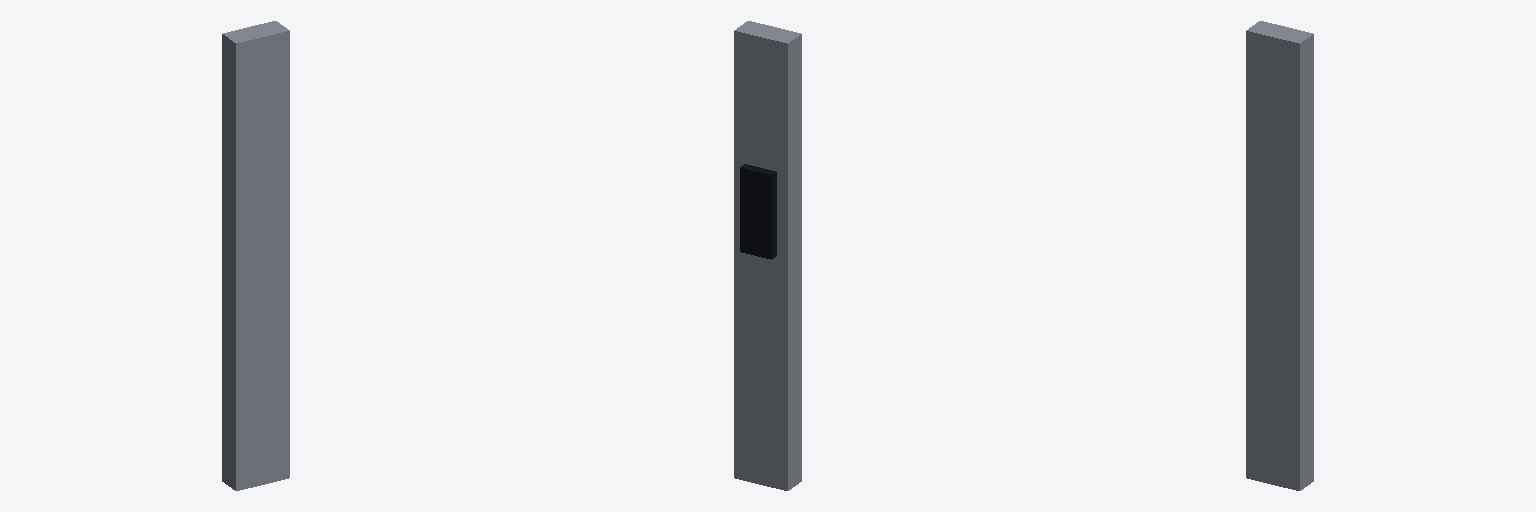
robot.urdf — artmanip_knife_017:
<?xml version='1.0' encoding='utf-8'?>
<robot name="artmanip_knife_017"><link name="link_0"><inertial><mass value="0.029" /><inertia ixx="5.1508199899828775e-05" iyy="5.215603768076266e-05" izz="9.725608650428946e-07" ixy="0" ixz="0" iyz="0" /></inertial><visual><geometry><box size="0.018309967019933638 0.008196589923094947 0.14576197653440673" /></geometry><material name="link_0_color"><color rgba=".58 .60 .64 1" /></material></visual><collision><geometry><box size="0.018309967019933638 0.008196589923094947 0.14576197653440673" /></geometry></collision></link><link name="link_1"><inertial><mass value="0.006" /><inertia ixx="3.8155080226194274e-07" iyy="4.3598752598513695e-07" izz="6.385267087085093e-08" ixy="0" ixz="0" iyz="0" /></inertial><visual><geometry><box size="0.010876092799992337 0.0030685415342890034 0.027453335997219514" /></geometry><material name="link_1_color"><color rgba=".12 .13 .15 1" /></material></visual><collision><geometry><box size="0.010876092799992337 0.0030685415342890034 0.027453335997219514" /></geometry></collision></link><joint name="slider" type="prismatic"><parent link="link_0" /><child link="link_1" /><origin xyz="0.0 0.005632565728691975 0.0166523280994427" /><axis xyz="0 0 1" /><limit lower="-0.03851662457960371" upper="0.011483375420396291" effort="100" velocity="1" /><dynamics damping="1000" friction="0.001" /></joint></robot>

--- What the picture shows (computed from the rendered views, not written in the file) ---
The picture shows the robot from 3 angles, left to right: view 1: azimuth 30°, elevation 25°; view 2: azimuth 150°, elevation 25°; view 3: azimuth 330°, elevation 25°; orthographic projection.
Model artmanip_knife_017 with 2 links and 1 joints (1 prismatic), rooted at link_0, posed every joint at zero.
Visible links, largest first — view 1: link_0; view 2: link_0, link_1; view 3: link_0.
Boxes of the visible links, x1,y1,x2,y2 form: link_0: (222,21,289,490); link_0: (734,21,801,490); link_1: (740,164,776,259); link_0: (1246,21,1313,490).
Size in the robot's own frame: 0.0183 by 0.0113 by 0.1458 metres.
Geometry: primitives only (box / cylinder / sphere), no mesh files.
